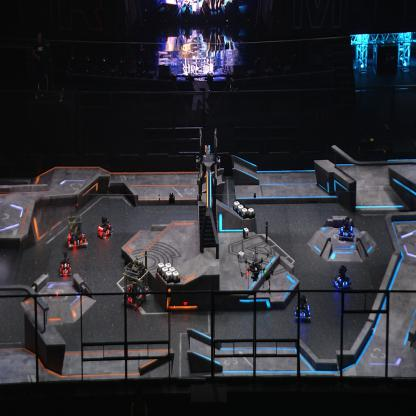car: (123, 259, 148, 309), (66, 212, 88, 248), (332, 262, 352, 290), (294, 293, 312, 322), (338, 216, 354, 242), (96, 214, 113, 238), (58, 249, 72, 276)
